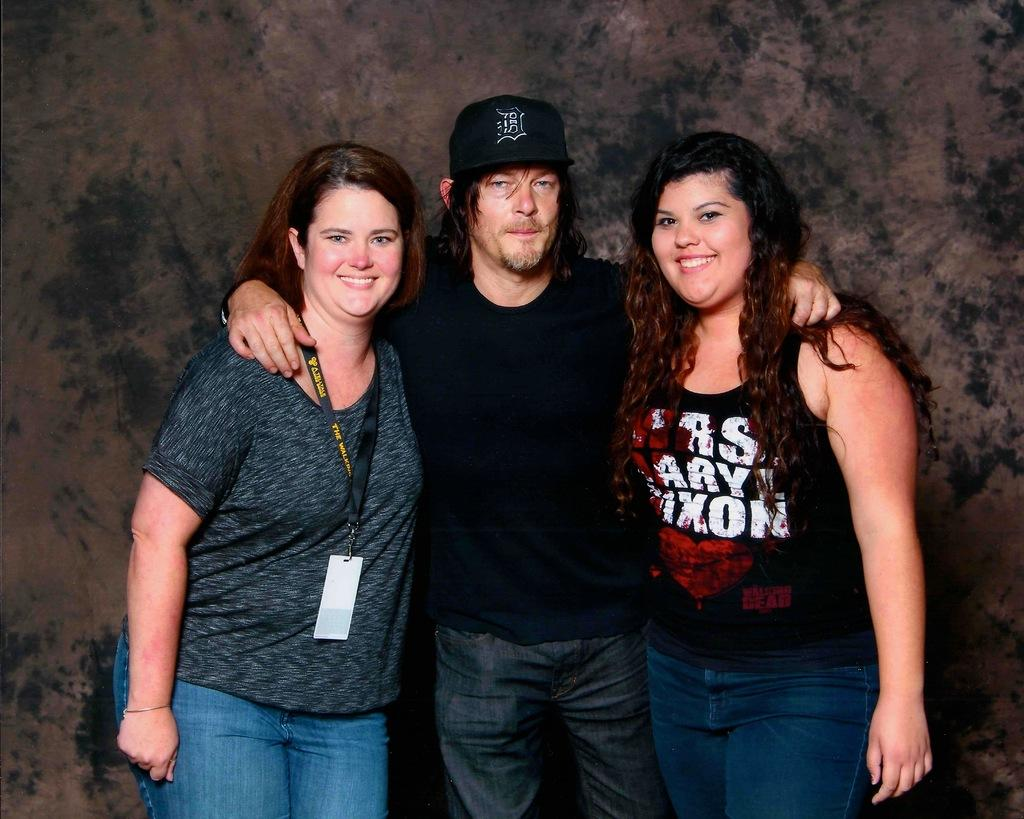Hat: (438, 95, 580, 190)
